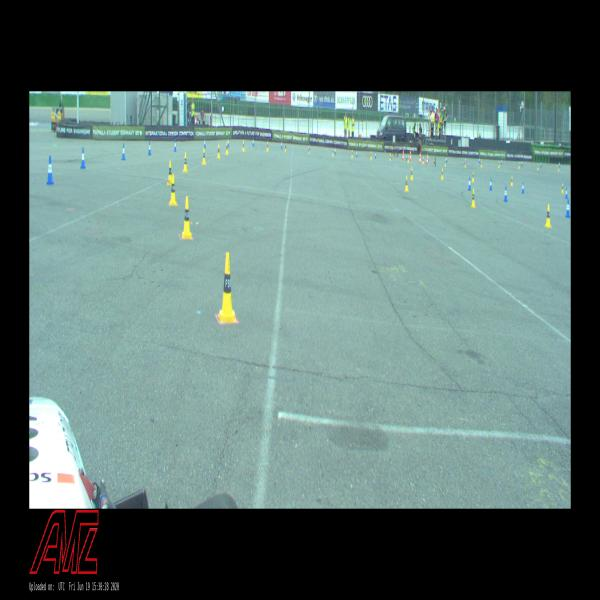blue_cone: (46, 156, 53, 184), (80, 147, 86, 168), (566, 200, 570, 217), (122, 143, 126, 160), (504, 186, 507, 202), (468, 177, 471, 190), (148, 142, 151, 154), (489, 178, 492, 190), (565, 188, 568, 198), (522, 182, 524, 194), (174, 140, 176, 151), (204, 138, 206, 148), (281, 141, 283, 149), (308, 144, 310, 152), (390, 152, 392, 160), (446, 156, 448, 162), (540, 162, 542, 167), (228, 138, 229, 147), (253, 138, 254, 146), (356, 150, 357, 157), (335, 147, 336, 154), (428, 155, 429, 162), (521, 160, 522, 166), (479, 157, 480, 163), (375, 152, 376, 158), (406, 154, 407, 160), (465, 156, 466, 162), (501, 159, 502, 164), (559, 162, 560, 167)
large_orange_cone: (426, 152, 429, 163), (419, 151, 421, 164), (402, 150, 404, 160), (410, 150, 411, 160)
yellow_cone: (218, 253, 236, 323), (182, 197, 192, 238), (169, 175, 176, 205), (545, 205, 551, 227), (167, 161, 172, 185), (183, 153, 188, 172), (472, 189, 476, 208), (202, 148, 206, 164), (405, 176, 408, 191), (217, 144, 220, 158), (561, 183, 564, 193), (226, 142, 228, 155), (411, 167, 413, 179), (441, 168, 443, 179), (510, 176, 512, 186), (242, 141, 244, 151), (266, 142, 268, 152), (284, 143, 286, 152), (472, 172, 474, 181), (351, 150, 353, 158), (370, 151, 372, 159), (332, 148, 334, 156), (422, 156, 424, 164), (498, 161, 500, 168), (444, 159, 446, 166), (407, 155, 409, 162), (518, 162, 520, 168), (537, 164, 539, 170), (464, 161, 466, 167), (390, 153, 391, 160), (309, 146, 310, 153), (481, 161, 482, 167), (558, 165, 559, 171)
